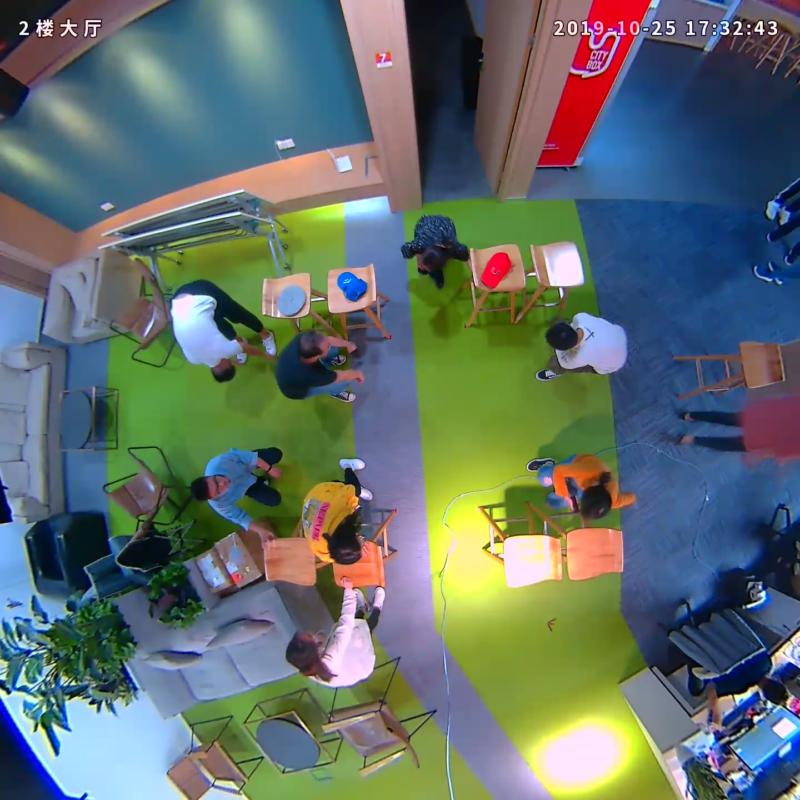head: (573, 477, 620, 528), (280, 628, 329, 674), (320, 523, 367, 568), (288, 327, 331, 369), (182, 472, 232, 507), (540, 318, 584, 352), (195, 357, 242, 387), (411, 242, 447, 279)
